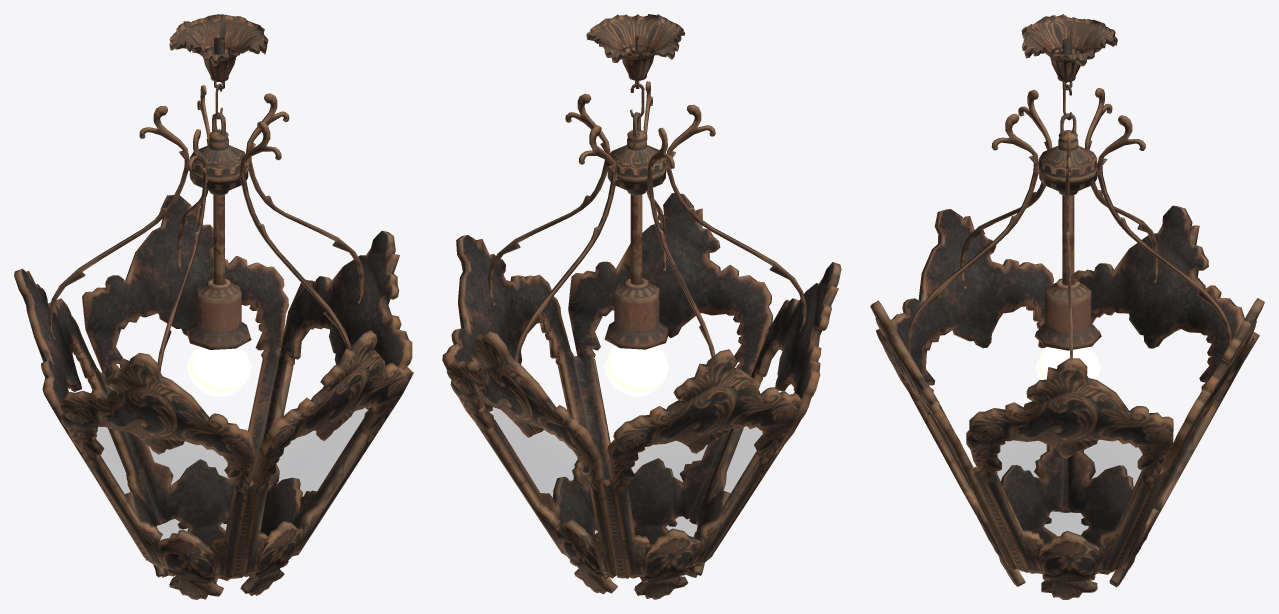
Rendered from lantern_chandelier_01.glb.
The picture shows the model from 3 angles, left to right: view 1: azimuth 30°, elevation 25°; view 2: azimuth 150°, elevation 25°; view 3: azimuth 270°, elevation 25°; orthographic projection.
Visible parts, largest first — view 1: lantern_chandelier_01; view 2: lantern_chandelier_01; view 3: lantern_chandelier_01.
Boxes of the visible parts, <box> form: lantern_chandelier_01: <box>14,14,413,599</box>; lantern_chandelier_01: <box>442,14,841,599</box>; lantern_chandelier_01: <box>870,14,1264,599</box>.
Size of the model in its own units: 0.5792 by 0.8776 by 0.5746.
Materials: 3 (2 with a texture image).
